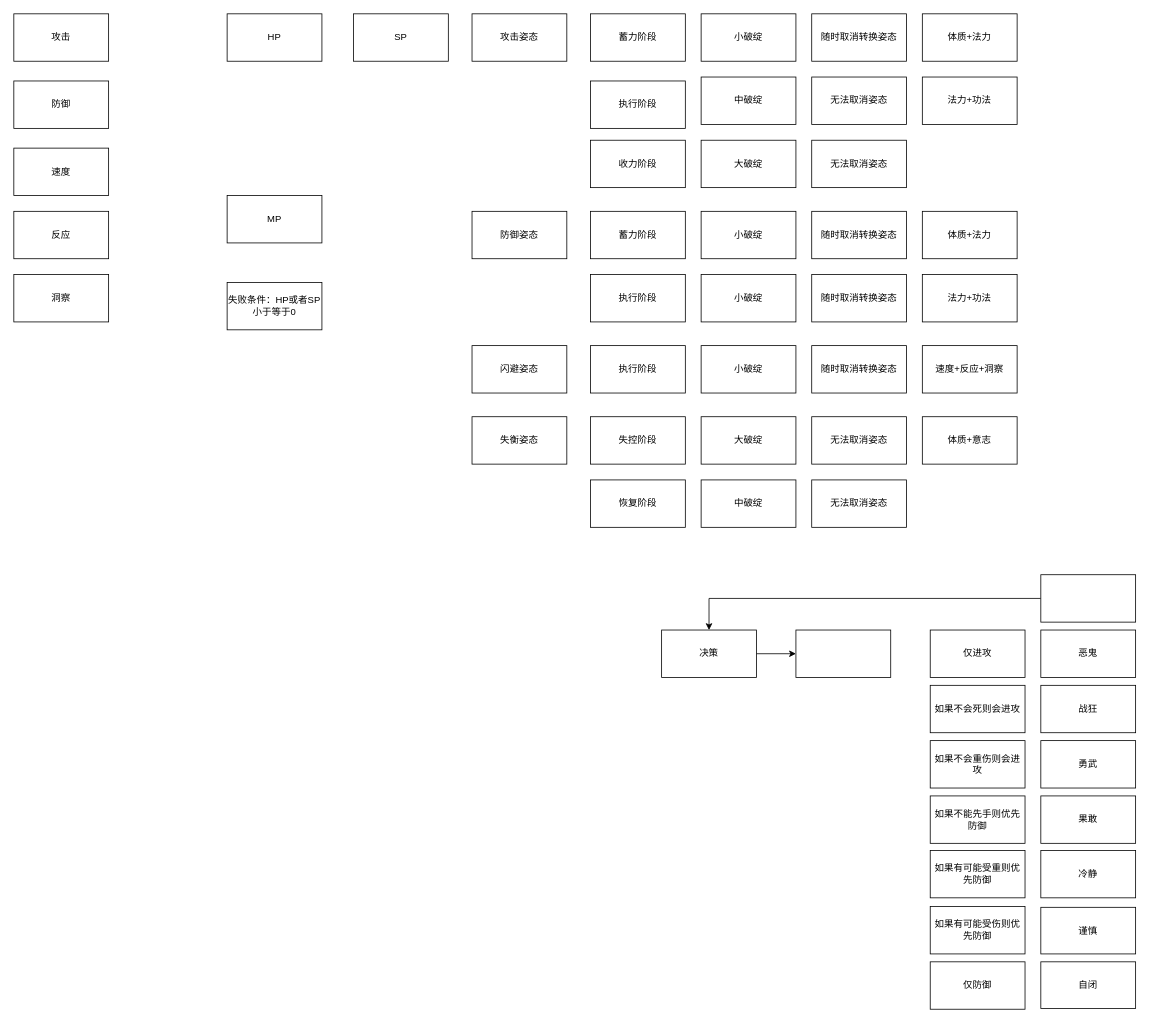
This 1149x1023 diagram has some shape labels left out. Here are the shapes that lost their labels. From the top down, the centre of each, then its label:
At point 1088,598: "性格".
At point 843,653: "姿态转换".
